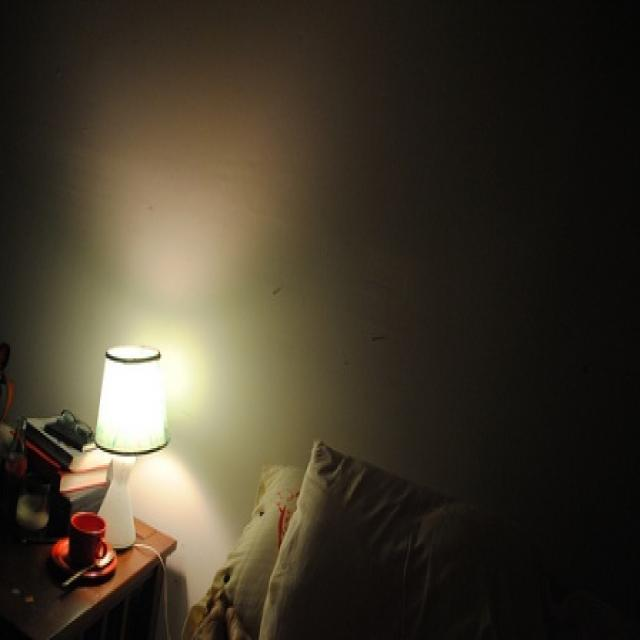Cup: (43, 501, 125, 595)
Table: (0, 405, 186, 640)
